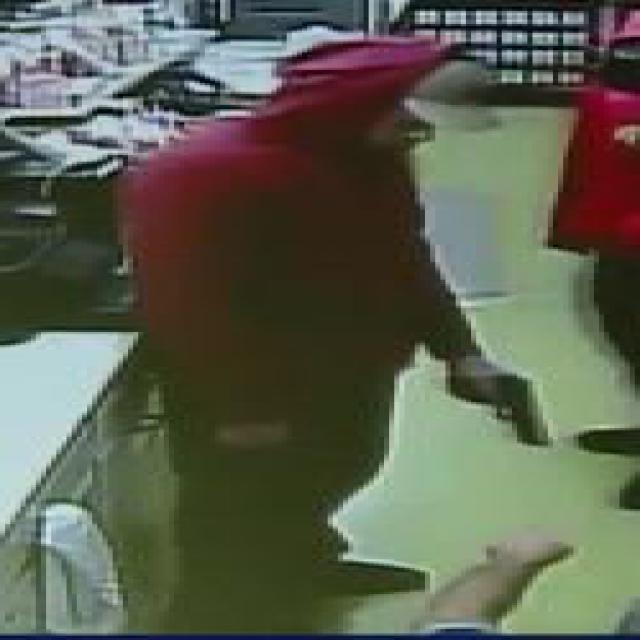Gun: (446, 368, 558, 446)
